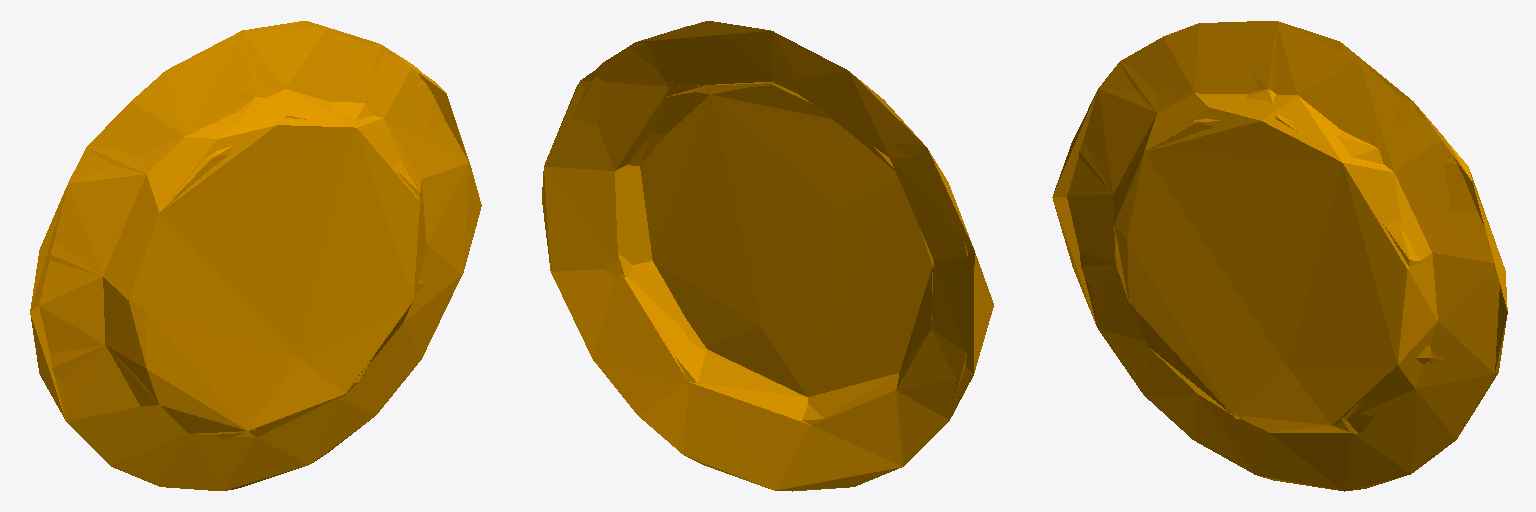
The robot description file, URDF, robot "indenter":
<robot name="indenter">
	<!-- <link name="world">
        </link> -->

        <!-- <joint name="world_to_indenter" type="prismatic">
                <parent link="world"/>
                <child link="indenter"/>
                <origin rpy="0.0 0.0 0.0" xyz="0.0 0.0 0.0"/>
                <axis xyz="0 1 0"/>
                <dynamics damping="0.0" friction="0.0"/>
                <limit lower="0.0" upper="0.1" velocity="1e9" effort="1e9"/>
        </joint> -->

	<link name="indenter">
		<visual>
			<origin rpy="0.0 0.0 0.0" xyz="0.0 0.0 0.0"/>
			<geometry>
				<mesh filename="../../meshes/target_objects/plate_ycb_few.obj"/>
			</geometry>
		</visual>
		<collision>
			<origin rpy="0.0 0.0 0.0" xyz="0.0 0.0 0.0"/>
			<geometry>
				<mesh filename="../../meshes/target_objects/plate_ycb_few.obj"/>
			</geometry>
		</collision>
		<inertial>
			<origin rpy="0.0 0.0 0.0" xyz="0.0 -8.64389e-3 0.0"/>
			<mass value="0.00224114"/>
			<inertia ixx="6.25553e-8" iyy="4.07645e-8" izz="6.25353e-8" ixy="0.0" ixz="4.69820e-15" iyz="0.0"/>
		</inertial>
	</link>
</robot>

--- What the picture shows (computed from the rendered views, not written in the file) ---
Views: 3 orthographic renders of the robot side by side, from view 1: azimuth 30°, elevation 25°; view 2: azimuth 150°, elevation 25°; view 3: azimuth 330°, elevation 25°.
Robot: indenter — 1 links, 0 joints (none); root link indenter; default pose: every joint at zero.
Links seen in each view (by area): view 1: indenter; view 2: indenter; view 3: indenter.
Boxes of the visible links, x1,y1,x2,y2 form: indenter: [30, 21, 481, 490]; indenter: [542, 21, 993, 491]; indenter: [1052, 21, 1507, 491].
Bounding box of the posed robot: 0.2653 × 0.027 × 0.2569 m (x, y, z).
Meshes: 1 distinct files referenced, 1 mesh visuals loaded (1 OBJ).